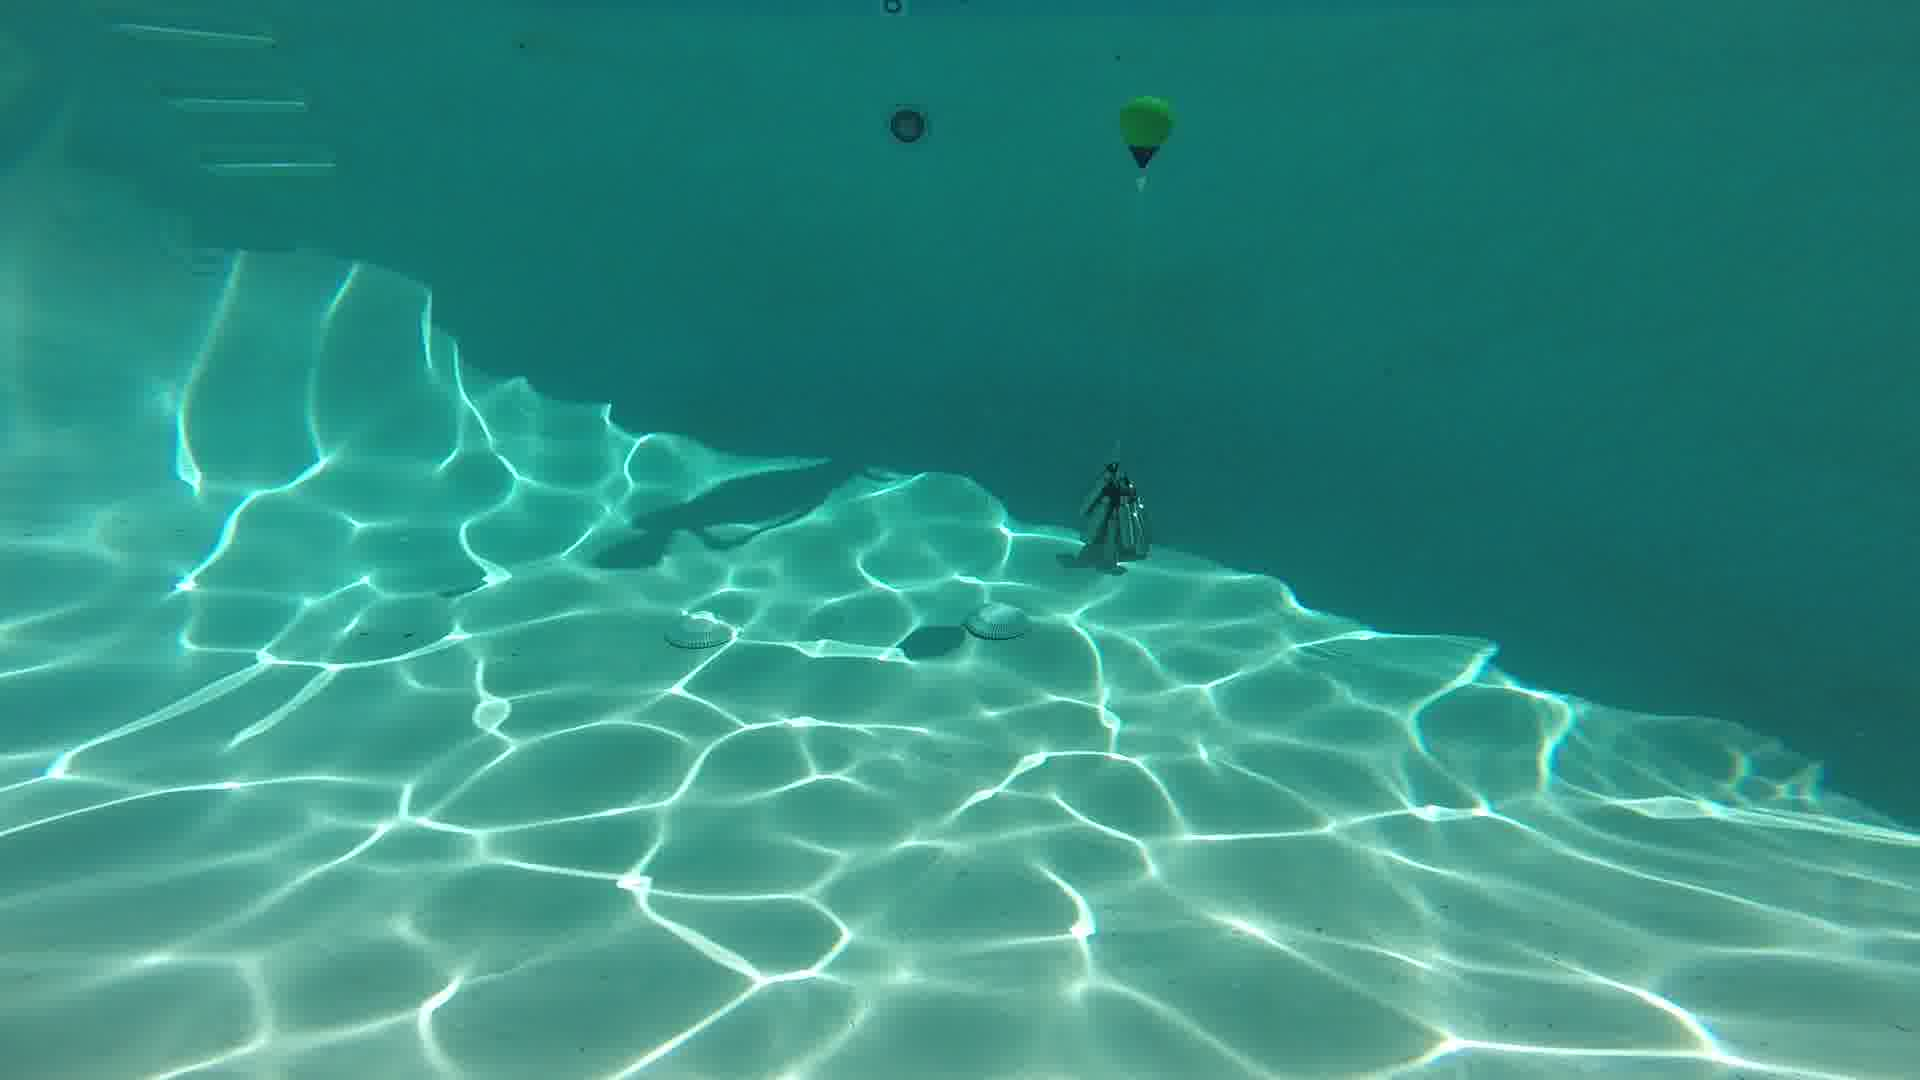yellow_buoy: (1124, 98, 1170, 167)
